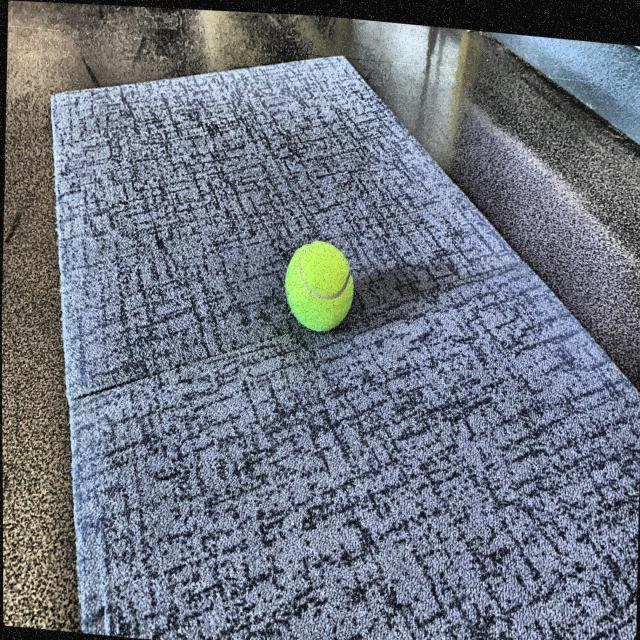tennis-ball: (280, 235, 363, 338)
